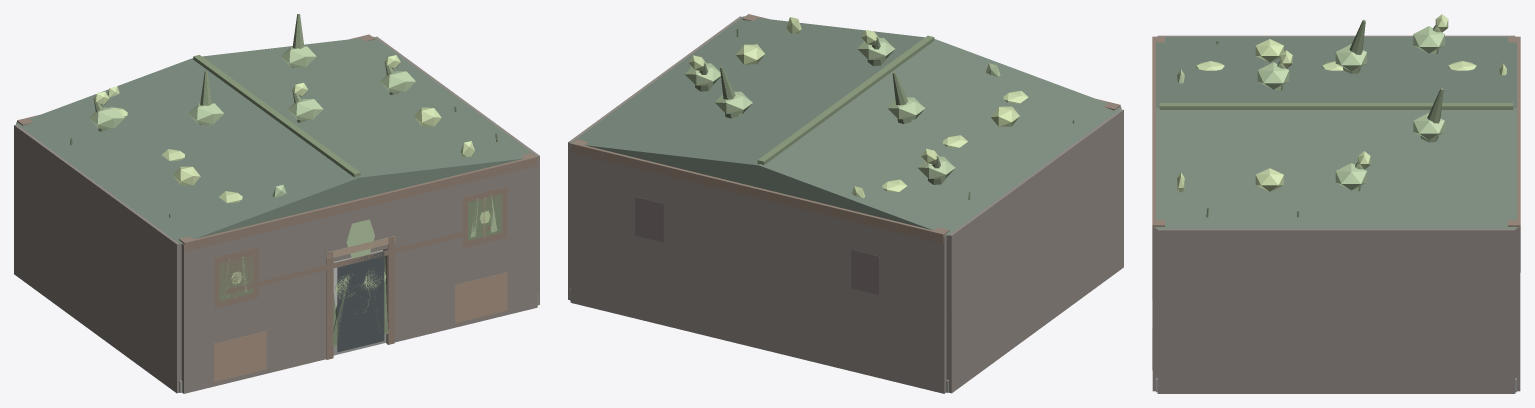
The model's file is market_stallhouse_infested.glb.
3 renders of one model, left to right at view 1: azimuth 30°, elevation 25°; view 2: azimuth 150°, elevation 25°; view 3: azimuth 270°, elevation 25°, orthographic. The views are drawn at different scales.
Parts seen in each view (by area): view 1: market_stallhouse_mat_01, market_stallhouse_mat_10, market_stallhouse_mat_02, market_stallhouse_mat_06, market_stallhouse_mat_07, market_stallhouse_mat_04, market_stallhouse_mat_08, market_stallhouse_mat_05, market_stallhouse_mat_00, market_stallhouse_mat_03; view 2: market_stallhouse_mat_01, market_stallhouse_mat_10, market_stallhouse_mat_02, market_stallhouse_mat_06, market_stallhouse_mat_08, market_stallhouse_mat_05, market_stallhouse_mat_09; view 3: market_stallhouse_mat_01, market_stallhouse_mat_10, market_stallhouse_mat_06, market_stallhouse_mat_08, market_stallhouse_mat_05, market_stallhouse_mat_02.
Part boxes in pixels (x1=…): market_stallhouse_mat_01: x1=14, y1=36, x2=539, y2=393; market_stallhouse_mat_10: x1=16, y1=36, x2=537, y2=244; market_stallhouse_mat_02: x1=17, y1=34, x2=536, y2=359; market_stallhouse_mat_06: x1=70, y1=14, x2=502, y2=346; market_stallhouse_mat_07: x1=214, y1=197, x2=507, y2=381; market_stallhouse_mat_04: x1=337, y1=251, x2=384, y2=352; market_stallhouse_mat_08: x1=89, y1=46, x2=497, y2=297; market_stallhouse_mat_05: x1=92, y1=55, x2=490, y2=313; market_stallhouse_mat_00: x1=179, y1=250, x2=538, y2=392; market_stallhouse_mat_03: x1=326, y1=236, x2=395, y2=259; market_stallhouse_mat_01: x1=568, y1=16, x2=1123, y2=393; market_stallhouse_mat_10: x1=570, y1=16, x2=1121, y2=235; market_stallhouse_mat_02: x1=571, y1=14, x2=1120, y2=377; market_stallhouse_mat_06: x1=695, y1=28, x2=1074, y2=200; market_stallhouse_mat_08: x1=685, y1=38, x2=1000, y2=178; market_stallhouse_mat_05: x1=688, y1=17, x2=1028, y2=197; market_stallhouse_mat_09: x1=635, y1=197, x2=879, y2=295; market_stallhouse_mat_01: x1=1152, y1=35, x2=1520, y2=393; market_stallhouse_mat_10: x1=1156, y1=37, x2=1516, y2=228; market_stallhouse_mat_06: x1=1159, y1=19, x2=1513, y2=217; market_stallhouse_mat_08: x1=1177, y1=26, x2=1444, y2=190; market_stallhouse_mat_05: x1=1177, y1=14, x2=1506, y2=192; market_stallhouse_mat_02: x1=1152, y1=36, x2=1520, y2=299.
Size of the model in its own units: 4.97 by 2.93 by 3.98.
